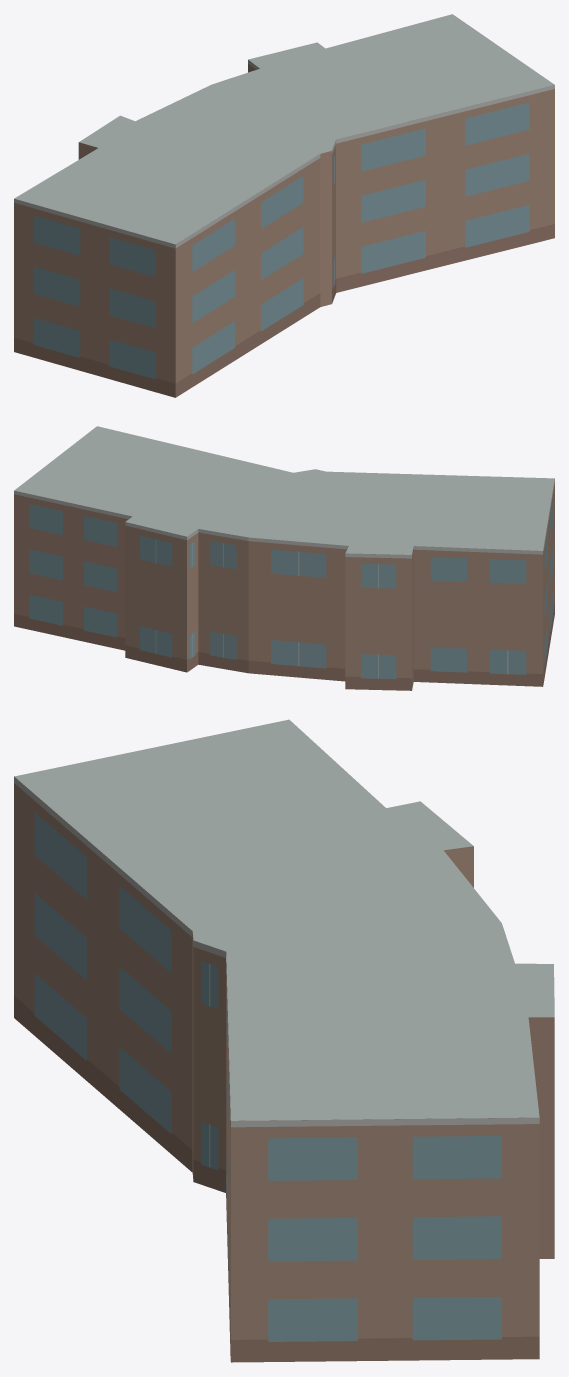
File: survey-upis-32956769.glb
3 views of the same model, one above another, from view 1: azimuth 30°, elevation 25°; view 2: azimuth 150°, elevation 25°; view 3: azimuth 270°, elevation 25° (orthographic). The views are drawn at different scales.
Visible parts, largest first — view 1: survey-upis-32956769.tmp; view 2: survey-upis-32956769.tmp; view 3: survey-upis-32956769.tmp.
Boxes of the visible parts, x1,y1,x2,y2 form: survey-upis-32956769.tmp: [14, 14, 554, 397]; survey-upis-32956769.tmp: [14, 426, 554, 690]; survey-upis-32956769.tmp: [14, 719, 554, 1362].
Bounding box in the file's own units: 32.62 × 9.15 × 18.58.
